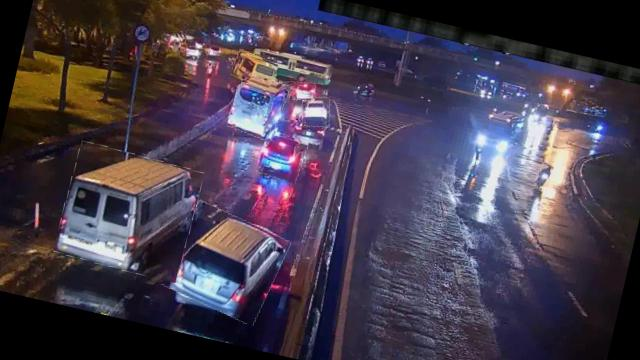Bike: (533, 162, 552, 190)
Bus: (52, 141, 204, 282), (227, 71, 290, 142), (230, 51, 278, 90)
Car: (162, 202, 290, 324), (256, 130, 308, 184), (298, 94, 332, 130), (284, 79, 317, 104)
